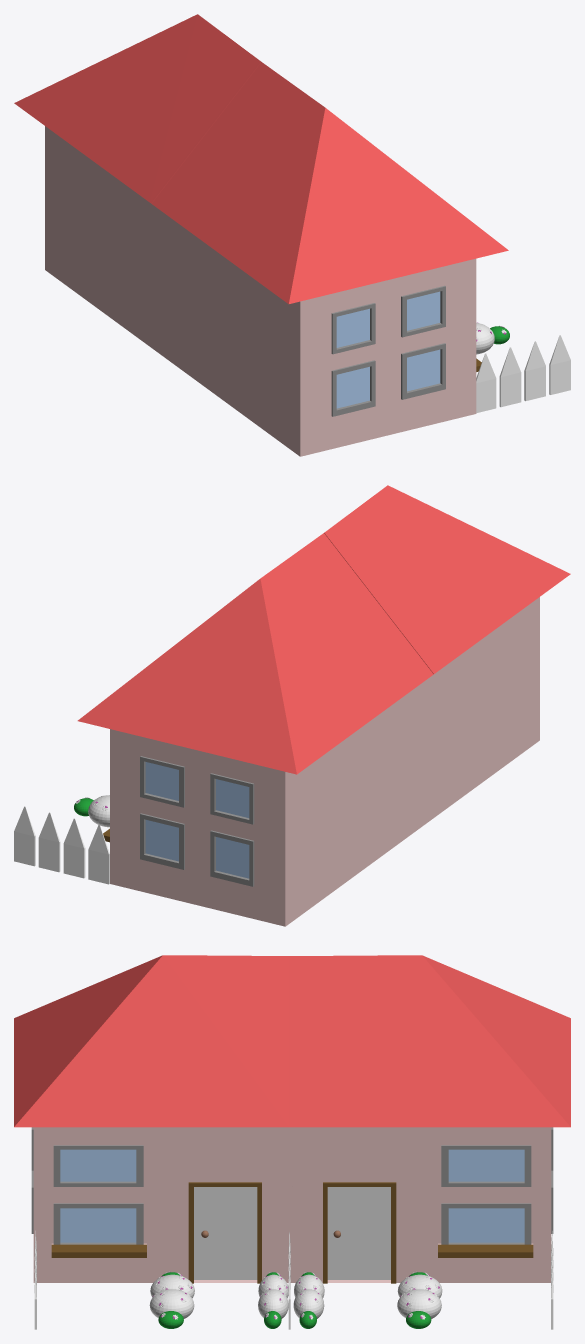
The model's file is HOUSE #2.1.fbx.
The picture shows the model from 3 angles, top to bottom: view 1: azimuth 30°, elevation 25°; view 2: azimuth 150°, elevation 25°; view 3: azimuth 270°, elevation 25°; orthographic projection.
Visible parts, largest first — view 1: Cube.012, Cube, Cube.003, Cube.005, Cube.004, Cube.002; view 2: Cube.012, Cube, Cube.006, Cube.013, Cube.014, Cube.001; view 3: Cube.012, Cube, Sphere.176, Sphere.342, Sphere.010, Sphere.504, Sphere.259, Sphere.425.
Part boxes in pixels (x1=…): Cube.012: x1=14, y1=14, x2=508, y2=303; Cube: x1=45, y1=126, x2=481, y2=456; Cube.003: x1=499, y1=347, x2=521, y2=407; Cube.005: x1=549, y1=335, x2=570, y2=394; Cube.004: x1=524, y1=341, x2=545, y2=401; Cube.002: x1=476, y1=353, x2=496, y2=413; Cube.012: x1=77, y1=485, x2=570, y2=774; Cube: x1=103, y1=597, x2=539, y2=926; Cube.006: x1=63, y1=818, x2=85, y2=878; Cube.013: x1=38, y1=812, x2=60, y2=872; Cube.014: x1=14, y1=806, x2=35, y2=866; Cube.001: x1=88, y1=825, x2=109, y2=884; Cube.012: x1=14, y1=955, x2=570, y2=1127; Cube: x1=31, y1=1127, x2=553, y2=1283; Sphere.176: x1=149, y1=1289, x2=194, y2=1318; Sphere.342: x1=397, y1=1289, x2=441, y2=1318; Sphere.010: x1=258, y1=1289, x2=288, y2=1318; Sphere.504: x1=293, y1=1289, x2=324, y2=1318; Sphere.259: x1=150, y1=1274, x2=194, y2=1298; Sphere.425: x1=397, y1=1274, x2=442, y2=1298.
Size of the model in its own units: 1086 by 994 by 1740.
